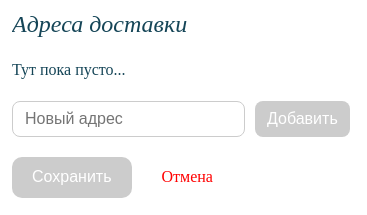
Test: AddressManager › блокирует кнопку добавления при коротком адресе
This screenshot has width=367, height=215.
expect the button "Добавить" is disabled: met, box x1=255 y1=101 x2=350 y2=137
Type "1234" into the field with placeholder "Новый адрес" at (128, 119), box x1=12 y1=101 x2=245 y2=137
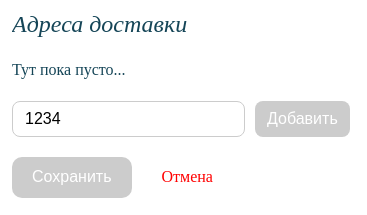
expect the button "Добавить" is disabled: met, box x1=255 y1=101 x2=350 y2=137
Replace the text in the field with placeholder "Новый адрес" with "12345" at (128, 119), box x1=12 y1=101 x2=245 y2=137
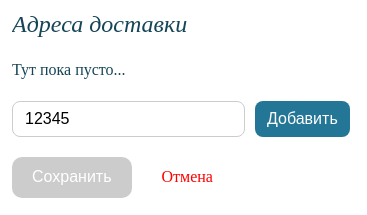
expect the button "Добавить" is enabled: met, box x1=255 y1=101 x2=350 y2=137
